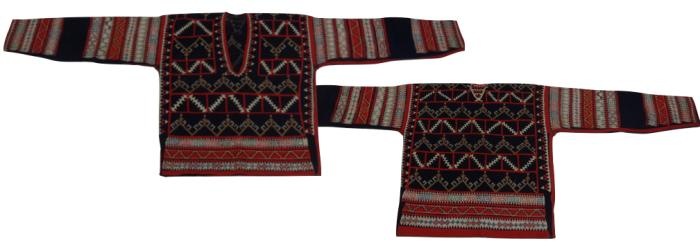malong: (0, 3, 467, 173), (294, 69, 700, 241)
